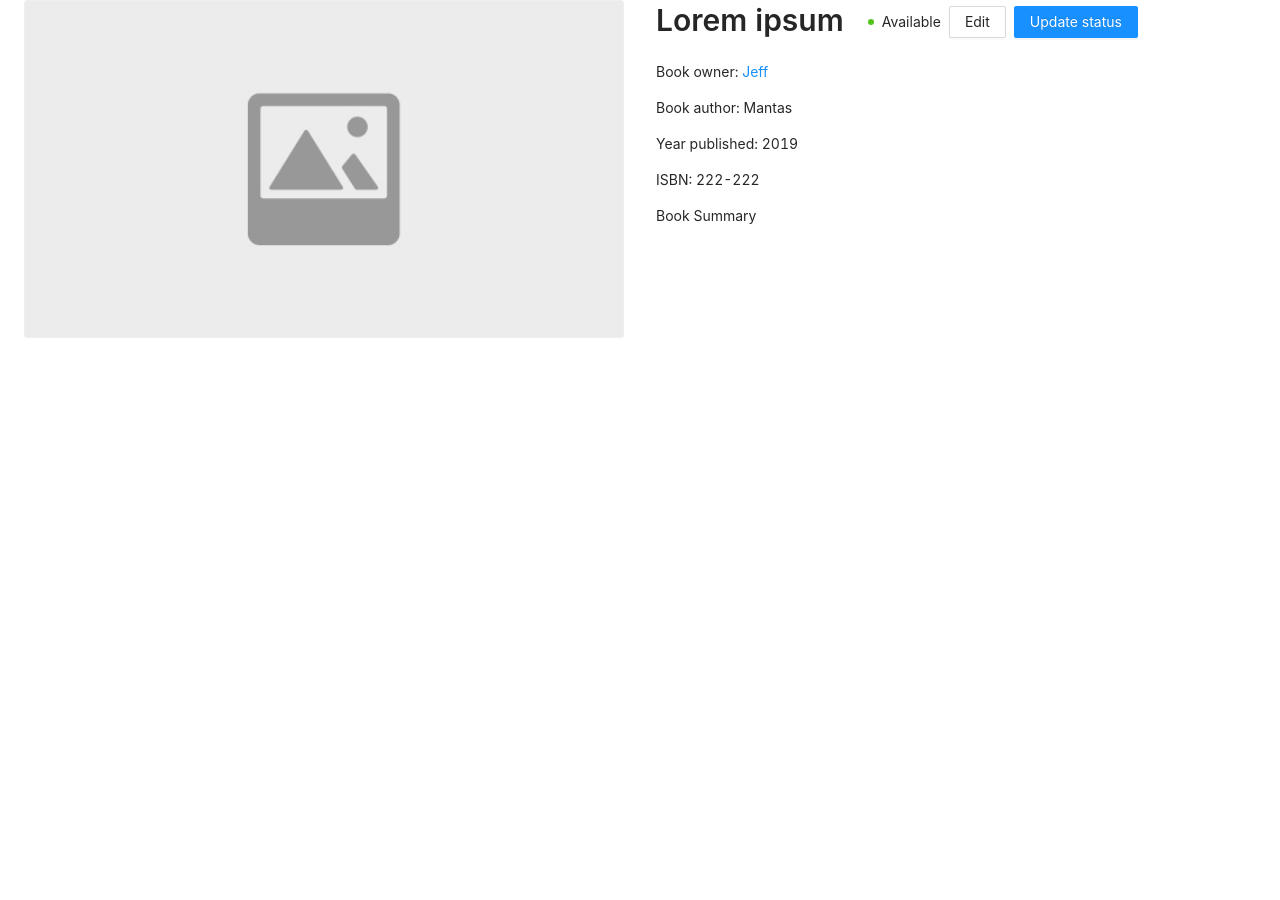
Test: Correctly caries out user actions › Opens status update modal when click on 'Update Status'
What coordinates should you click on to do the following:
click the button "Update status"
I would click on:
 (1076, 22)
Its box is 1014,6 -> 1138,38.
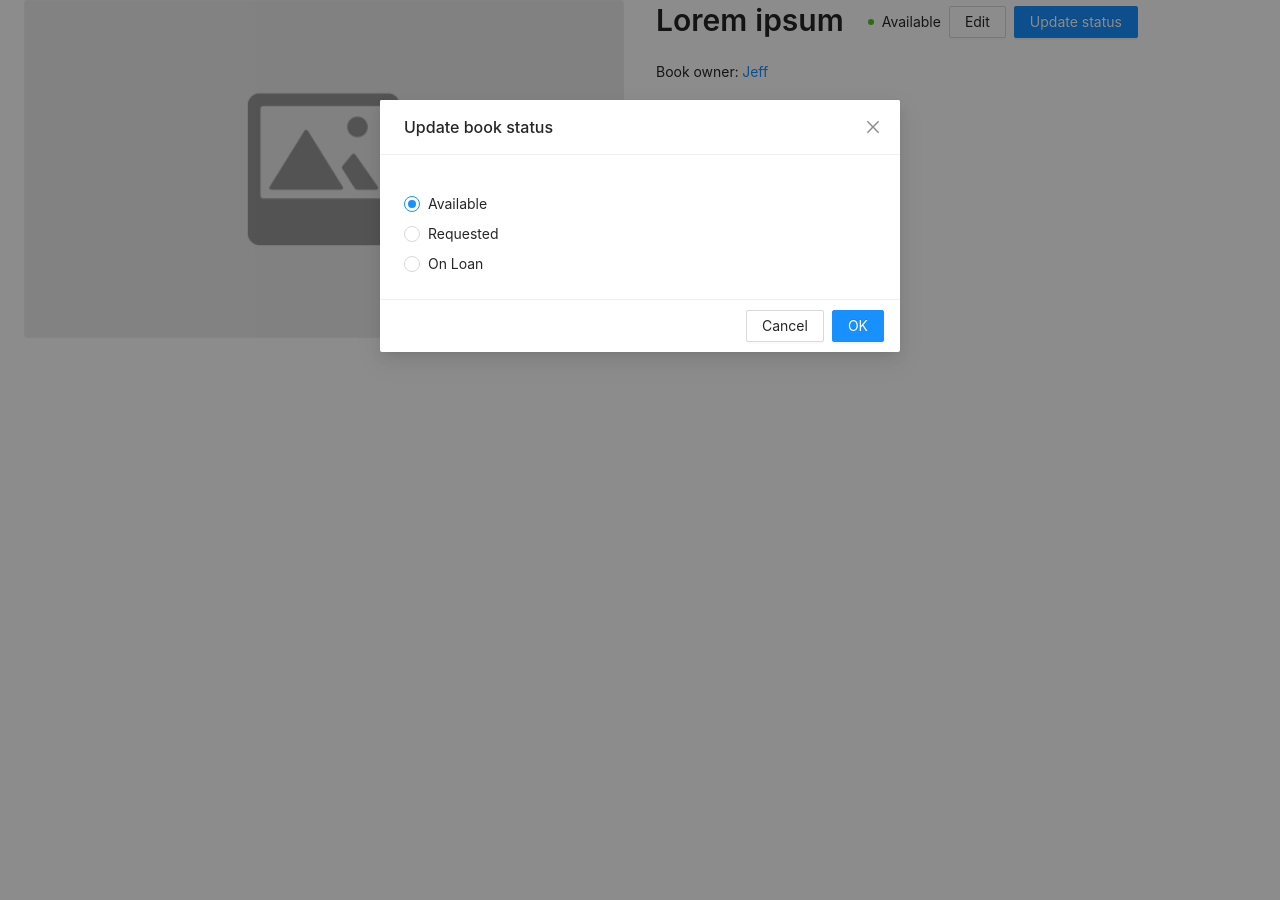
expect the text "Update book status" is shown: met, box 404,117 -> 553,137
